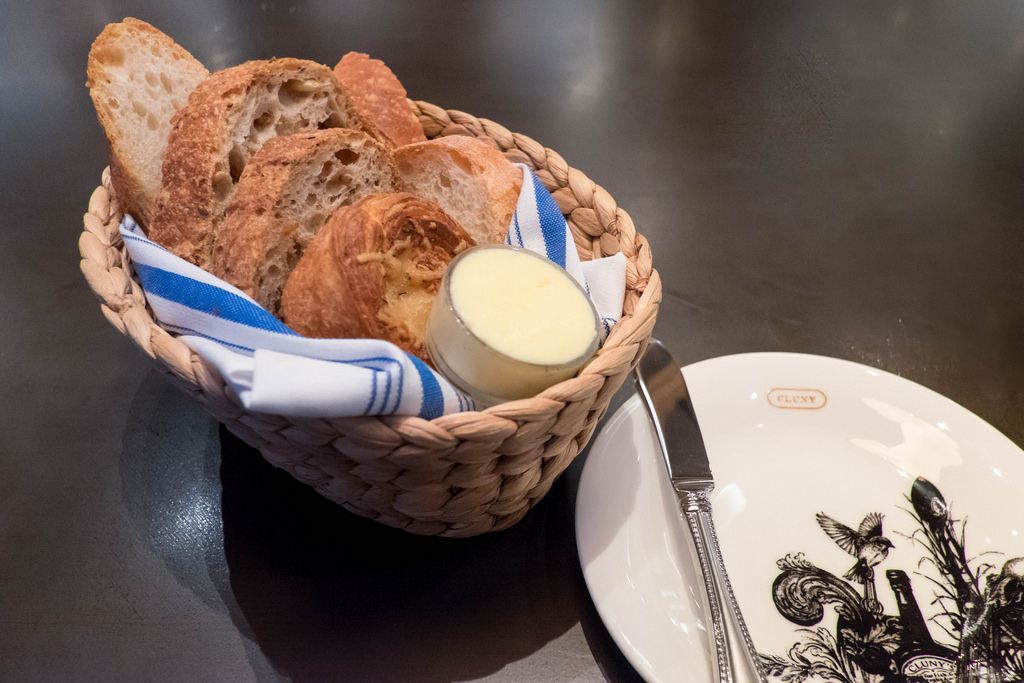slice of bread: (90, 22, 504, 311), (165, 57, 376, 290)
